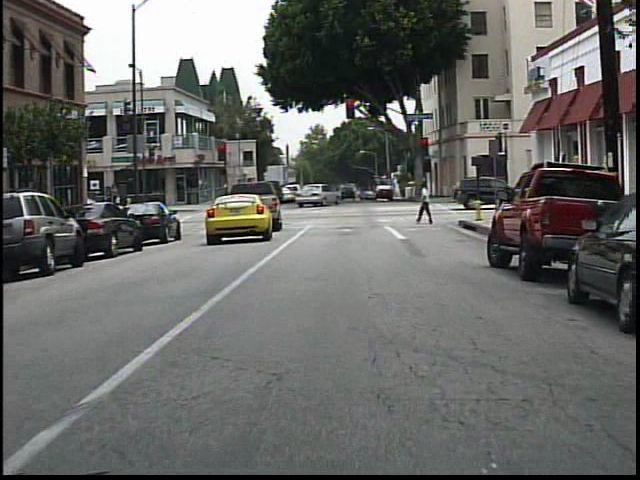person: (413, 180, 438, 226)
